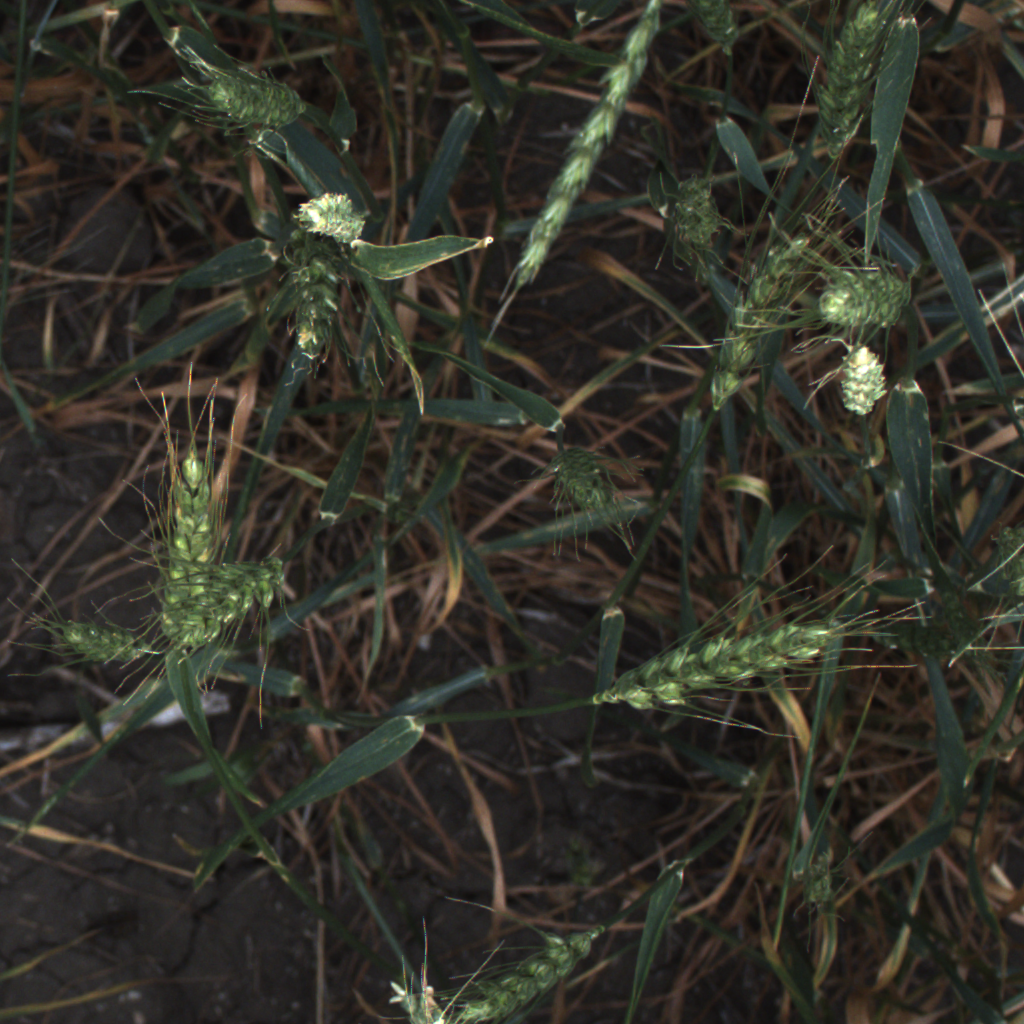wheat_head: (490, 0, 661, 310), (588, 611, 831, 726), (155, 435, 238, 698), (698, 231, 808, 428), (794, 0, 911, 160), (164, 541, 303, 657), (459, 917, 612, 1020), (799, 242, 932, 352), (173, 51, 314, 147), (261, 241, 346, 372), (643, 158, 743, 268), (50, 607, 168, 676), (543, 444, 619, 519), (291, 182, 367, 254), (835, 332, 892, 418), (385, 973, 464, 1024), (684, 5, 744, 61)
